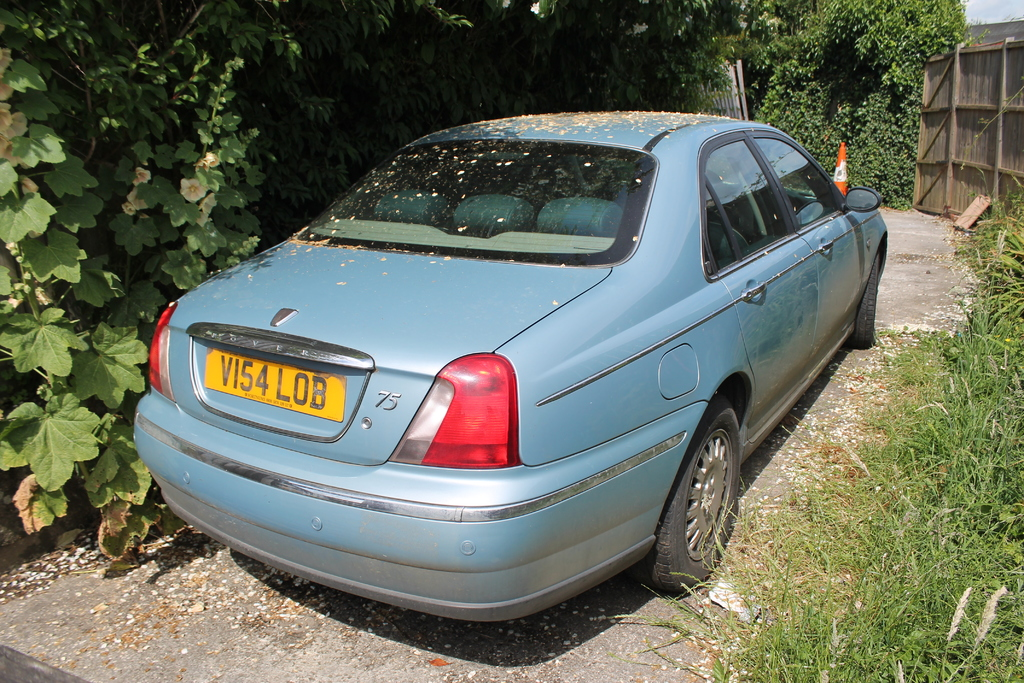Car: (122, 111, 905, 642)
